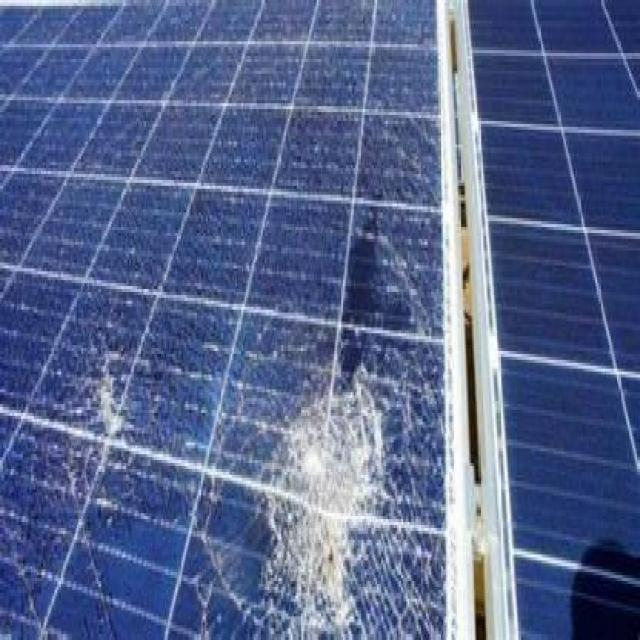cracked: (4, 23, 457, 640)
